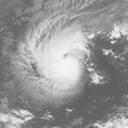cyclone: (14, 14, 86, 96)
